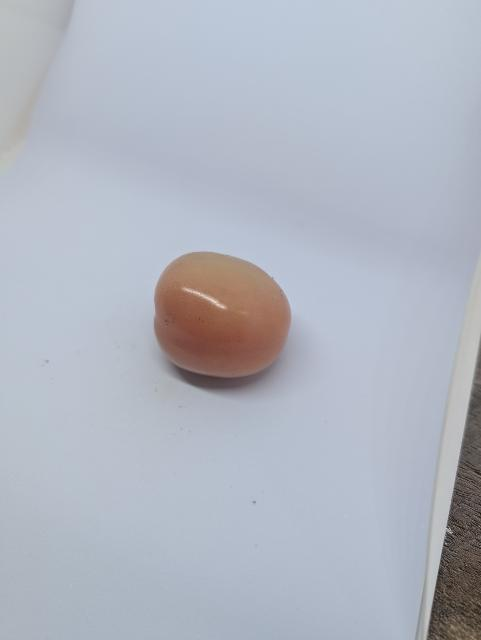turning: (152, 245, 294, 391)
